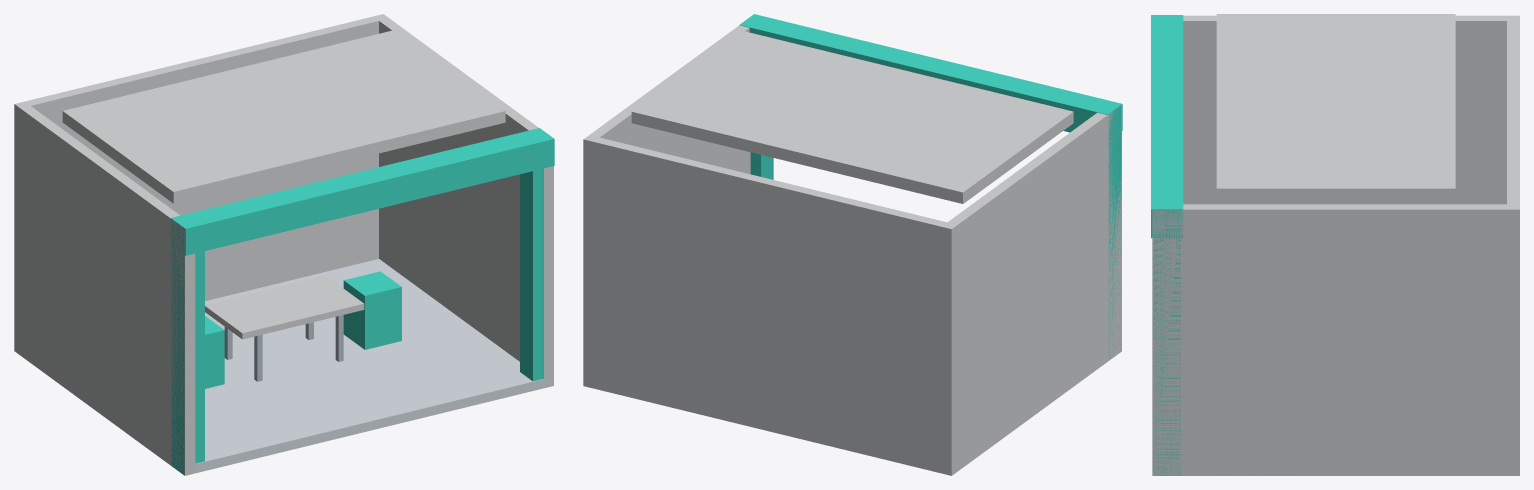
The picture shows the model from 3 angles, left to right: view 1: azimuth 30°, elevation 25°; view 2: azimuth 150°, elevation 25°; view 3: azimuth 270°, elevation 25°; orthographic projection. The views are drawn at different scales.
Parts seen in each view (by area): view 1: Exhibition Booth Concept; view 2: Exhibition Booth Concept; view 3: Exhibition Booth Concept.
Boxes of the visible parts, box(x1,y1,x2,y2) form: Exhibition Booth Concept: box(14, 14, 554, 475); Exhibition Booth Concept: box(583, 14, 1122, 475); Exhibition Booth Concept: box(1151, 14, 1519, 475).
Size of the model in its own units: 5 by 3.34 by 4.02.
